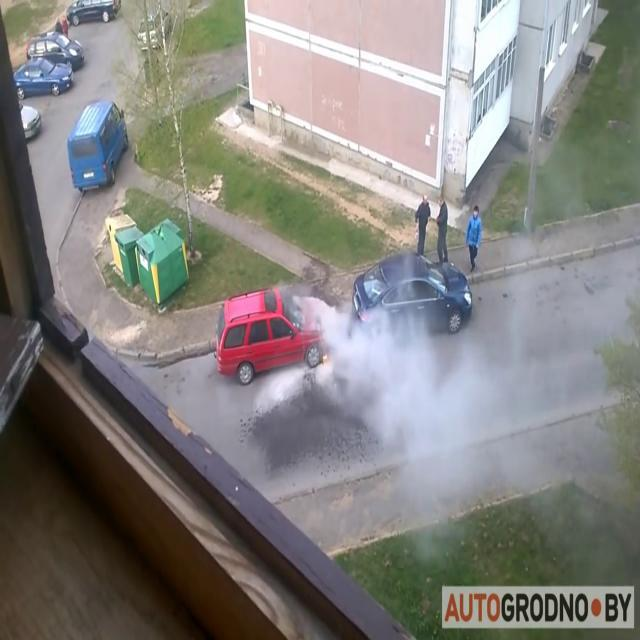Smoke: (315, 256, 639, 568)
